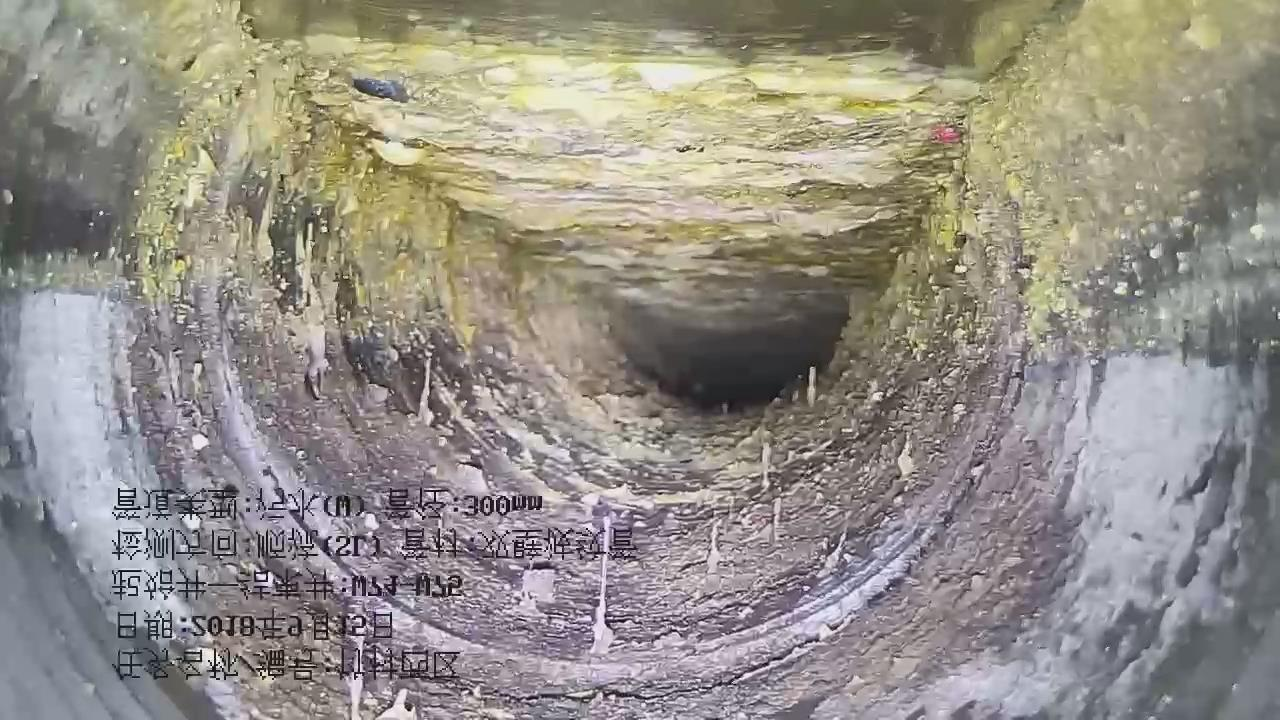CKTJ: (180, 73, 1040, 708)
FZ: (255, 1, 978, 359)
JG: (0, 1, 1279, 720)
